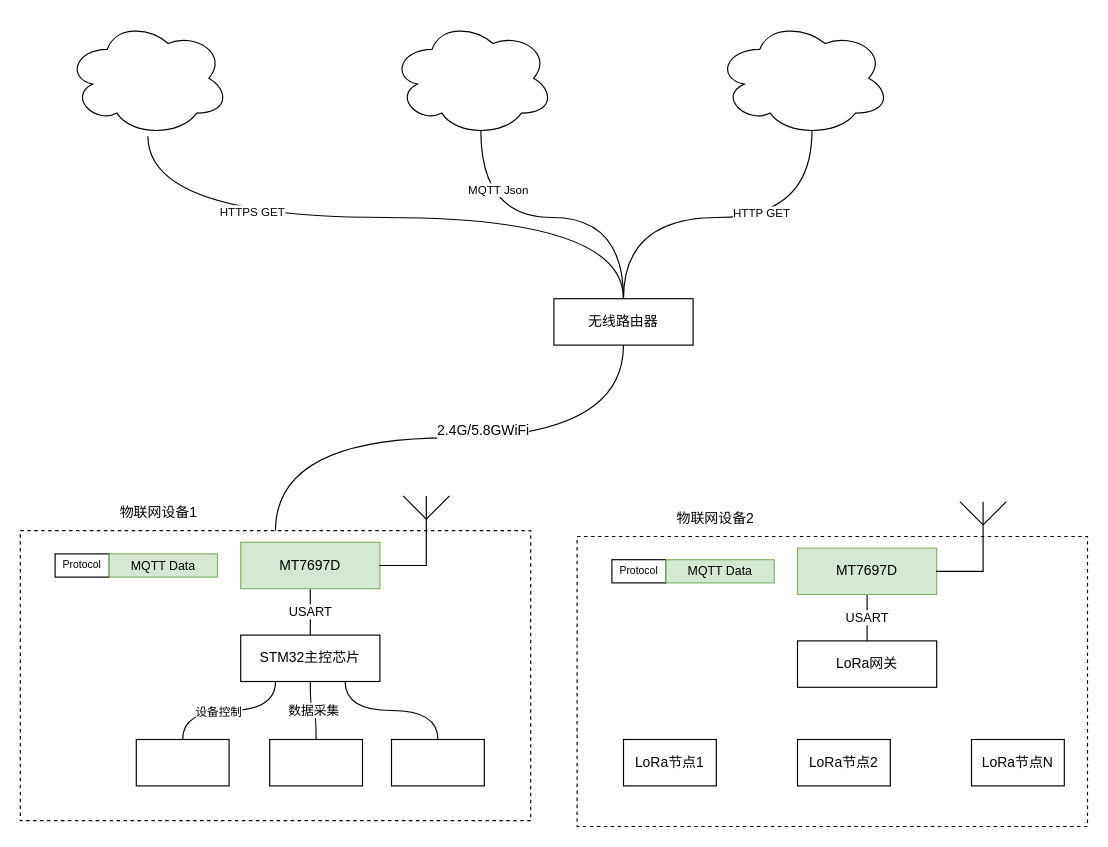
Some shapes in this 1108 by 847 pixel diagram are drawn without their labels. Each missing label, with the box of its shape:
Fota OSS Server: (66, 19, 229, 136)
IoT-MQTT Server: (390, 19, 554, 136)
TOP Server Device Register: (715, 19, 890, 136)
传感器: (269, 738, 362, 786)
功能N: (390, 738, 484, 786)
继电器: (135, 738, 229, 786)
